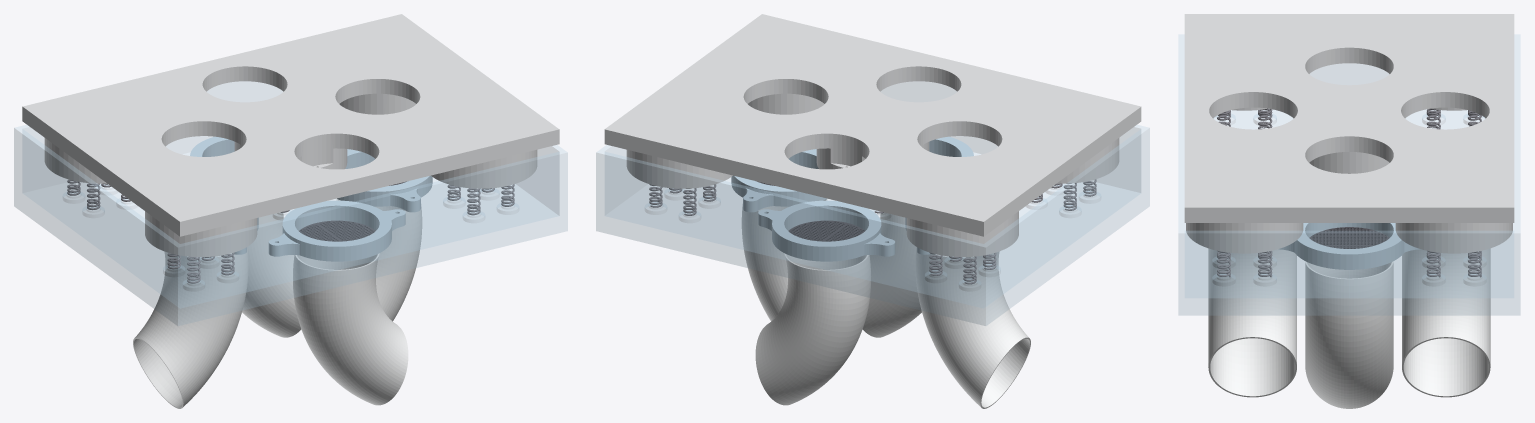
File: hydrosafe.glb
3 views of the same model, side by side, from view 1: azimuth 30°, elevation 25°; view 2: azimuth 150°, elevation 25°; view 3: azimuth 270°, elevation 25° (orthographic). The views are drawn at different scales.
Parts seen in each view (by area): view 1: lid_plate, tank_body, elbow_02, elbow_04, collar_01, elbow_01, elbow_03, collar_04, disc_03, collar_02; view 2: lid_plate, tank_body, elbow_01, elbow_04, collar_02, elbow_02, elbow_03, collar_04, disc_04, collar_01; view 3: lid_plate, tank_body, elbow_01, elbow_02, elbow_03, collar_04, disc_01, spring_10.
Part boxes in pixels (x1=…): lid_plate: x1=22, y1=14, x2=559, y2=256; tank_body: x1=14, y1=81, x2=567, y2=325; elbow_02: x1=293, y1=253, x2=408, y2=405; elbow_04: x1=133, y1=247, x2=248, y2=408; collar_01: x1=268, y1=200, x2=405, y2=261; elbow_01: x1=242, y1=212, x2=301, y2=337; elbow_03: x1=335, y1=198, x2=422, y2=321; collar_04: x1=337, y1=149, x2=432, y2=212; disc_03: x1=299, y1=220, x2=375, y2=241; collar_02: x1=190, y1=136, x2=234, y2=156; lid_plate: x1=604, y1=14, x2=1141, y2=256; tank_body: x1=596, y1=81, x2=1149, y2=325; elbow_01: x1=755, y1=253, x2=870, y2=405; elbow_04: x1=915, y1=247, x2=1030, y2=408; collar_02: x1=758, y1=200, x2=895, y2=261; elbow_02: x1=862, y1=212, x2=921, y2=337; elbow_03: x1=741, y1=198, x2=828, y2=321; collar_04: x1=731, y1=149, x2=826, y2=212; disc_04: x1=788, y1=220, x2=864, y2=241; collar_01: x1=929, y1=136, x2=973, y2=156; lid_plate: x1=1184, y1=14, x2=1514, y2=253; tank_body: x1=1178, y1=34, x2=1520, y2=315; elbow_01: x1=1402, y1=248, x2=1490, y2=397; elbow_02: x1=1208, y1=248, x2=1296, y2=397; elbow_03: x1=1305, y1=261, x2=1393, y2=408; collar_04: x1=1278, y1=223, x2=1420, y2=269; disc_01: x1=1309, y1=227, x2=1389, y2=248; spring_10: x1=1258, y1=251, x2=1272, y2=277.
Size of the model in its own units: 0.55 by 0.3483 by 0.4.
